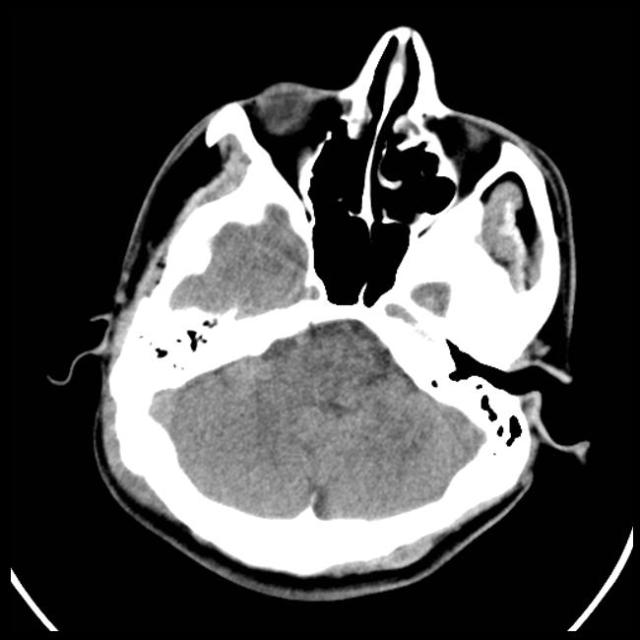lesion: (76, 24, 589, 600)
